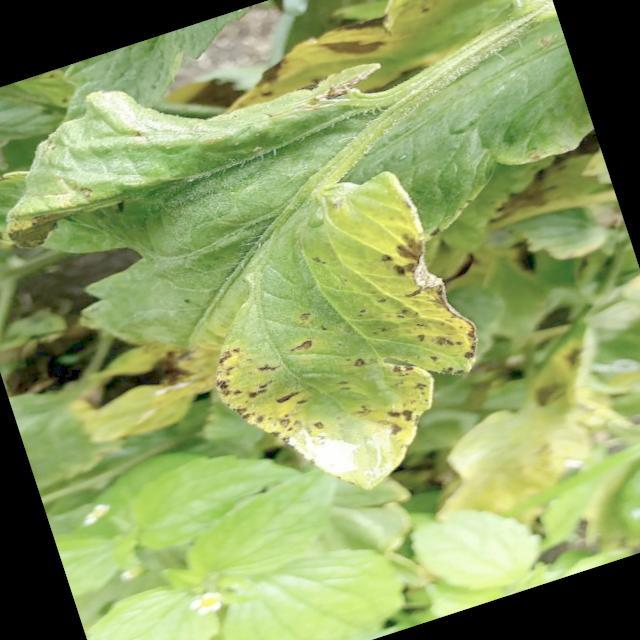Tomato bacterial spot leaf: (0, 0, 526, 578)
